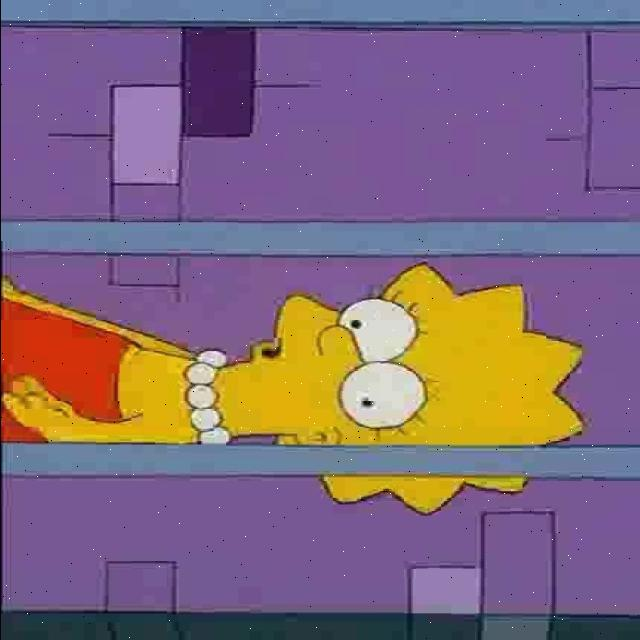Lisa Simpson: (182, 261, 585, 517)
